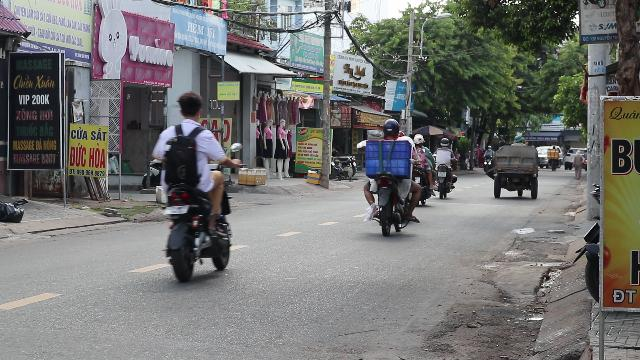helmet: (382, 118, 400, 138)
motorcyclist: (154, 90, 238, 282), (360, 118, 420, 236)
nohelmet: (176, 91, 204, 121)
